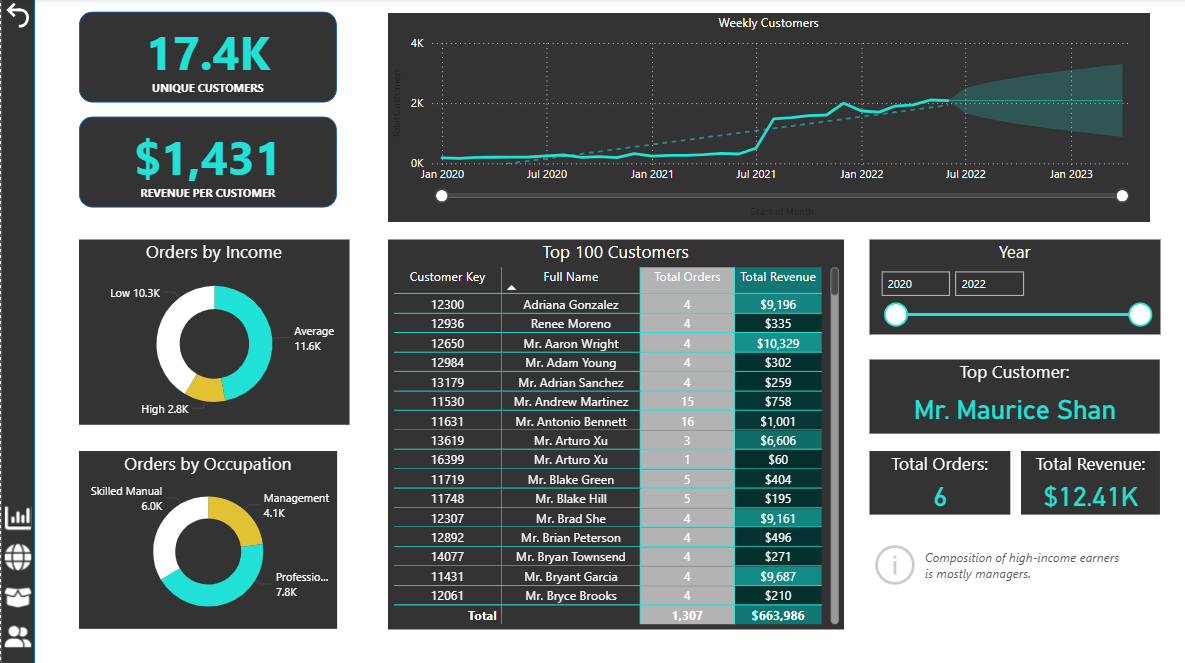

Layout of this report page (visuals, bound fields, positions):
{"tool":"powerbi","page":{"name":"Customer Detail","canvas":[1280,720],"ordinal":3},"visuals":[{"type":"shape","box":[0,0,36.7,720],"z":0},{"type":"shape","title":"KPI Background","box":[85,15,278.3,98.3],"z":1000},{"type":"actionButton","box":[0,531.7,36.7,60],"z":2000,"group":"g1"},{"type":"card","title":"KPI Value","fields":{"Values":["Measure Table.Total Customers"]},"box":[70,0,306.7,128.3],"z":2000},{"type":"actionButton","box":[0,617.3,36.7,60],"z":3000,"group":"g1"},{"type":"shape","title":"KPI Background","box":[85,128.3,278.3,98.3],"z":3000},{"type":"card","title":"KPI Value","fields":{"Values":["Measure Table.Average Revenue per Customer"]},"box":[70,113.3,306.7,128.3],"z":4000},{"type":"actionButton","box":[0,660,36.7,60],"z":4000,"group":"g1"},{"type":"lineChart","title":"Weekly Customers","fields":{"Y":["Measure Table.Total Customers"],"Category":["Calendar Lookup.Date Hierarchy.Start of Year","Calendar Lookup.Date Hierarchy.Start of Month","Calendar Lookup.Date Hierarchy.Start of Week","Calendar Lookup.Date Hierarchy.Date"]},"box":[418.3,16.7,821.7,225],"z":5000},{"type":"actionButton","box":[0,574.5,36.7,60],"z":5000,"group":"g1"},{"type":"donutChart","title":"Orders by Income","fields":{"Y":["Measure Table.Total Orders"],"Series":["Customer Lookup.Income Level"]},"box":[85,260,291.7,200],"z":6000},{"type":"donutChart","title":"Orders by Occupation","fields":{"Y":["Measure Table.Total Orders"],"Series":["Customer Lookup.Occupation"]},"box":[85,488.3,278.3,191.7],"z":7000},{"type":"tableEx","title":"Top 100 Customers","fields":{"Values":["Customer Lookup.CustomerKey","Customer Lookup.Full Name","Measure Table.Total Orders","Measure Table.Total Revenue"]},"box":[418.3,260,491.7,420],"z":8000},{"type":"card","title":"Top Customer:","fields":{"Values":["Customer Lookup.Full Name"]},"box":[938.3,390,313.3,80],"z":9000},{"type":"card","title":"Total Revenue:","fields":{"Values":["Measure Table.Average Revenue per Customer"]},"box":[1101.7,488.3,150,68.3],"z":10000},{"type":"card","title":"Total Orders:","fields":{"Values":["Measure Table.Total Orders"]},"box":[938.3,488.3,151.7,68.3],"z":11000},{"type":"slicer","title":"Year","fields":{"Values":["Calendar Lookup.Date.Variation.Date Hierarchy.Year"]},"box":[938.3,260,313.3,101.7],"z":12000},{"type":"actionButton","box":[938.3,585,285,55],"z":13000},{"type":"actionButton","box":[0,0,36.7,36.7],"z":14000},{"type":"group","id":"g1","title":"Navigation Buttons","box":[0,531.7,36.7,188.3],"z":15000}]}

Visuals, with their boxes on the page's 1280x720 design canvas (x1, y1, x2, y2). These are canvas units, not pixel positions in the 1185x663 screenshot, which may show the page scaled, cropped or inside an application window:
shape: <bbox>0, 0, 37, 720</bbox>
"KPI Background" shape: <bbox>85, 15, 363, 113</bbox>
actionButton: <bbox>0, 532, 37, 592</bbox>
"KPI Value" card: <bbox>70, 0, 377, 128</bbox>
actionButton: <bbox>0, 617, 37, 677</bbox>
"KPI Background" shape: <bbox>85, 128, 363, 227</bbox>
"KPI Value" card: <bbox>70, 113, 377, 242</bbox>
actionButton: <bbox>0, 660, 37, 720</bbox>
"Weekly Customers" lineChart: <bbox>418, 17, 1240, 242</bbox>
actionButton: <bbox>0, 574, 37, 634</bbox>
"Orders by Income" donutChart: <bbox>85, 260, 377, 460</bbox>
"Orders by Occupation" donutChart: <bbox>85, 488, 363, 680</bbox>
"Top 100 Customers" tableEx: <bbox>418, 260, 910, 680</bbox>
"Top Customer:" card: <bbox>938, 390, 1252, 470</bbox>
"Total Revenue:" card: <bbox>1102, 488, 1252, 557</bbox>
"Total Orders:" card: <bbox>938, 488, 1090, 557</bbox>
"Year" slicer: <bbox>938, 260, 1252, 362</bbox>
actionButton: <bbox>938, 585, 1223, 640</bbox>
actionButton: <bbox>0, 0, 37, 37</bbox>
"Navigation Buttons" group: <bbox>0, 532, 37, 720</bbox>
